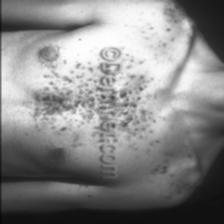Non-Cancerous Skin Condition: (33, 81, 97, 123), (118, 62, 156, 132)
